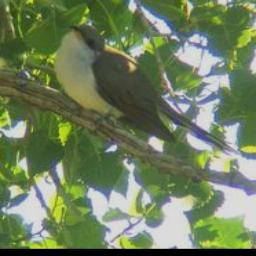Cuckoo: (54, 23, 245, 156)
